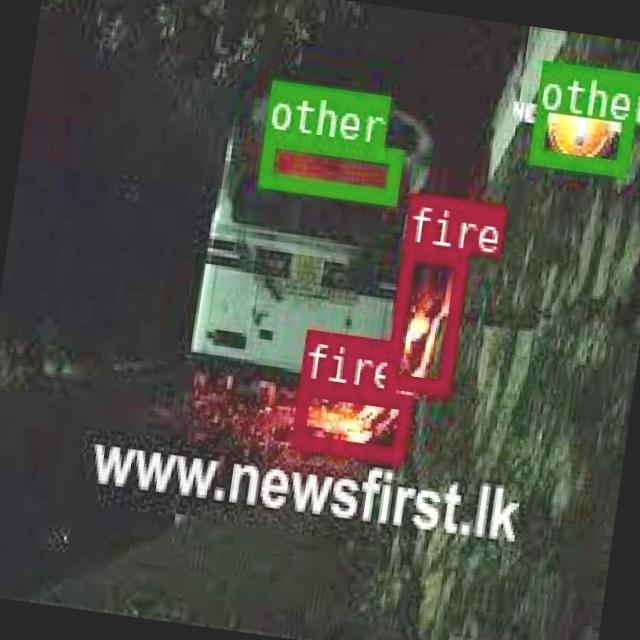fire: (384, 240, 467, 393), (291, 378, 408, 460)
